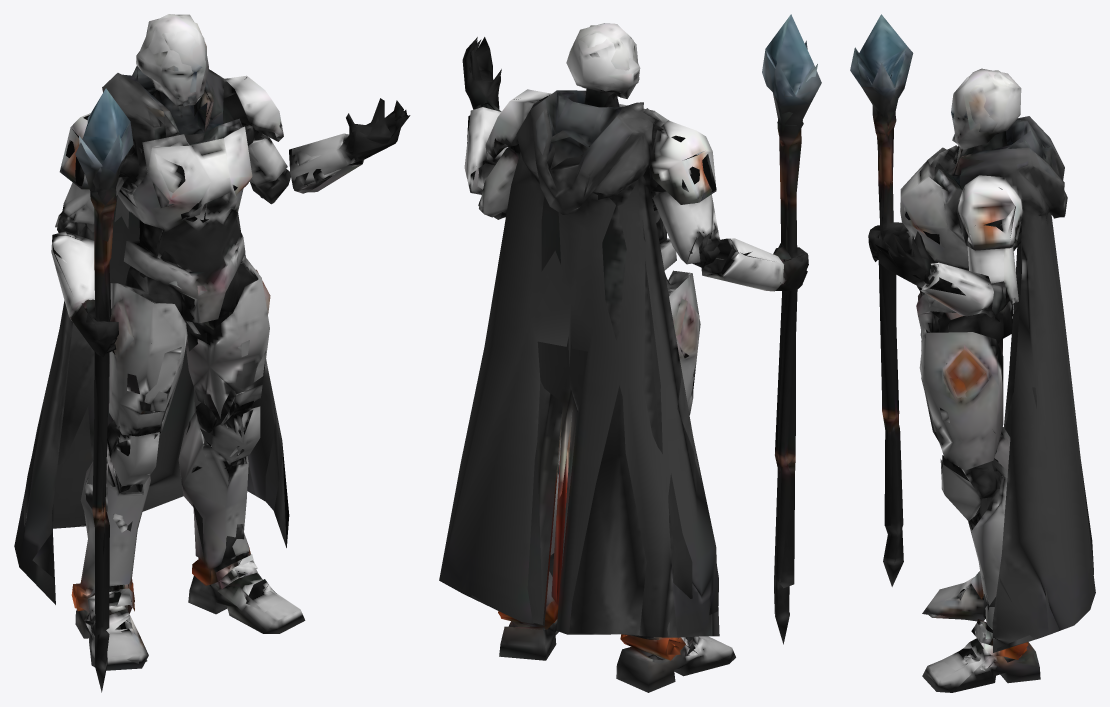
File: detail_6_lo.glb
3 renders of one model, left to right at view 1: azimuth 30°, elevation 25°; view 2: azimuth 150°, elevation 25°; view 3: azimuth 270°, elevation 25°, orthographic. The views are drawn at different scales.
Parts seen in each view (by area): view 1: Mesh_0.001; view 2: Mesh_0.001; view 3: Mesh_0.001.
Boxes of the visible parts, x1,y1,x2,y2 form: Mesh_0.001: [14, 14, 410, 692]; Mesh_0.001: [439, 14, 821, 692]; Mesh_0.001: [850, 14, 1095, 692].
Bounding box in the file's own units: 0.5779 × 0.9974 × 0.3867.
1 material, 1 textured.
